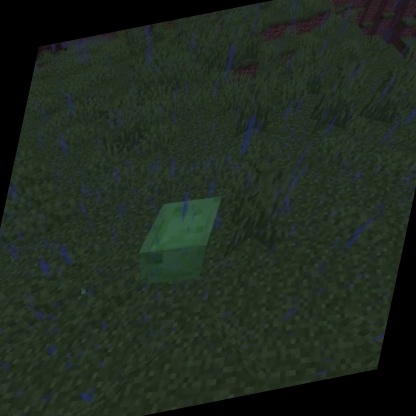slime: (125, 188, 228, 297)
